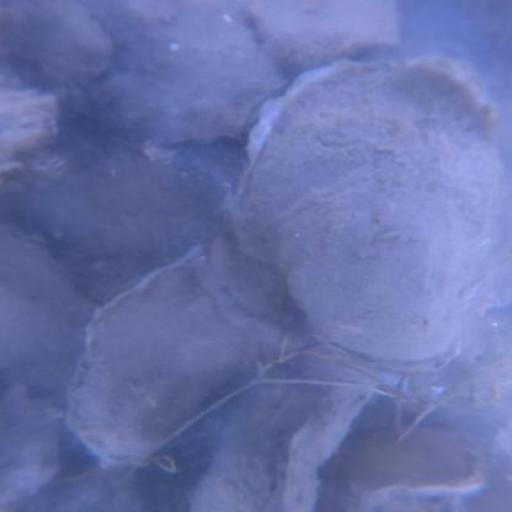Oyster-Closed: (75, 268, 259, 468), (189, 344, 378, 512), (99, 2, 281, 150), (255, 2, 416, 70), (342, 423, 490, 493), (10, 1, 110, 100), (1, 67, 72, 199)
Oyster-Open: (235, 63, 497, 365)
